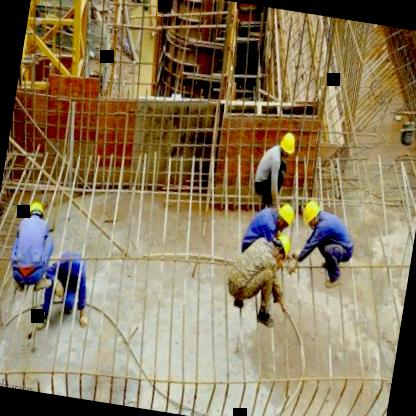helmet: (270, 198, 300, 230), (20, 193, 48, 226), (268, 230, 294, 264), (276, 126, 299, 160), (300, 196, 322, 230), (64, 246, 89, 275)
